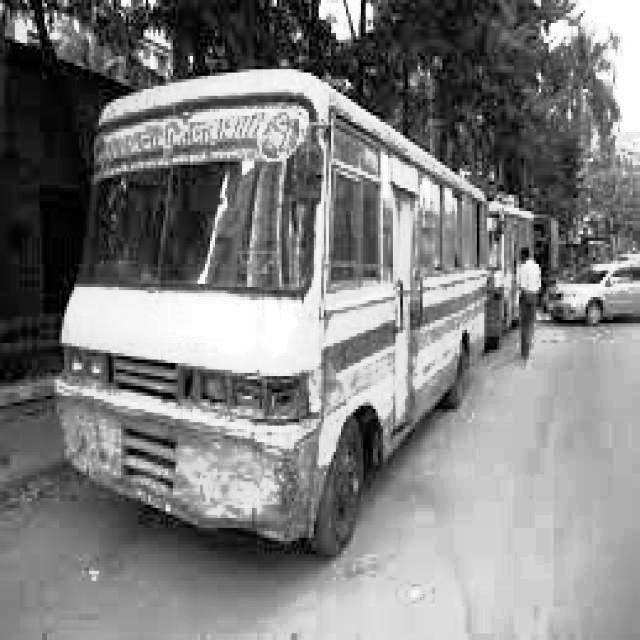Bus: (51, 54, 487, 572), (481, 156, 542, 346)
